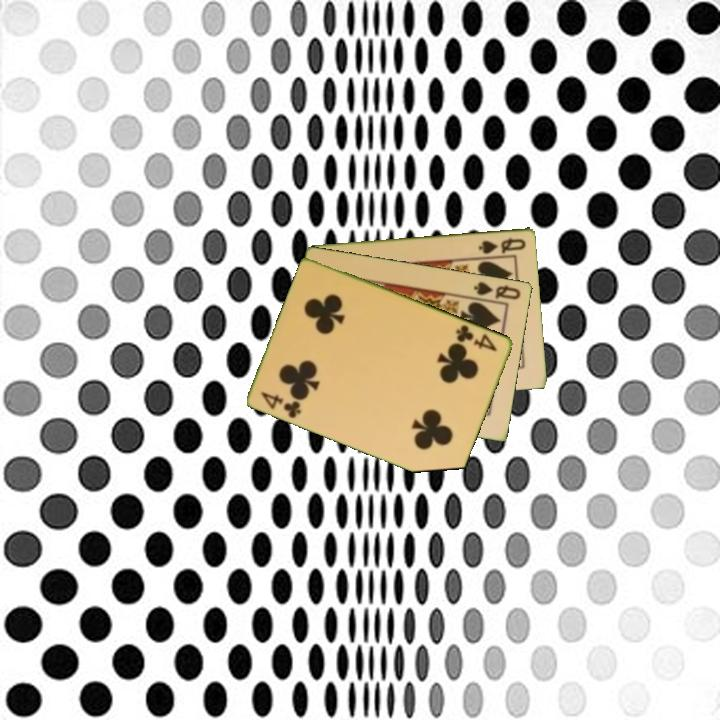4c: (452, 321, 500, 354), (257, 388, 305, 421)
Qs: (470, 278, 524, 302), (475, 234, 529, 256)
